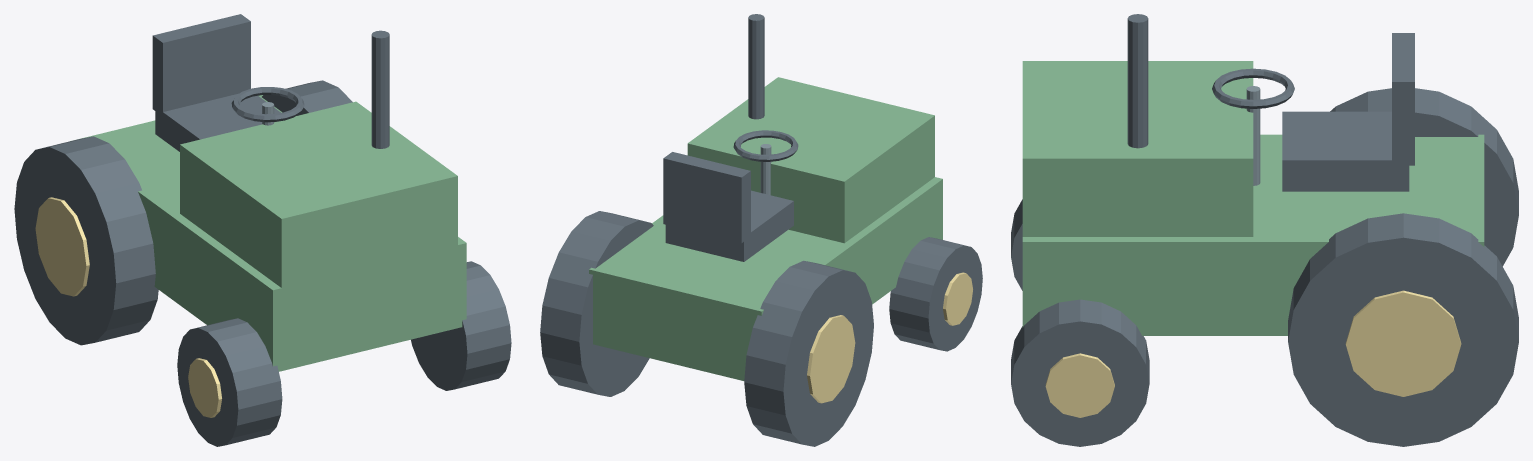
File: tractor.glb
The picture shows the model from 3 angles, left to right: view 1: azimuth 30°, elevation 25°; view 2: azimuth 150°, elevation 25°; view 3: azimuth 270°, elevation 25°; orthographic projection. The views are drawn at different scales.
Visible parts, largest first — view 1: tractor_001, tractor_000, tractor_004, tractor_002, tractor_011, tractor_006, tractor_005, tractor_010, tractor_012, tractor_008, tractor_003, tractor_014; view 2: tractor_000, tractor_001, tractor_004, tractor_008, tractor_002, tractor_011, tractor_010, tractor_005, tractor_012, tractor_003, tractor_014, tractor_013; view 3: tractor_000, tractor_001, tractor_008, tractor_006, tractor_010, tractor_009, tractor_004, tractor_007, tractor_011, tractor_012, tractor_014, tractor_002 (+1 smaller).
Part boxes in pixels (x1,y1,x2,y2): tractor_001: (180,101,457,310); tractor_000: (70,95,466,371); tractor_004: (14,136,158,345); tractor_002: (177,318,282,446); tractor_011: (152,14,250,111); tractor_006: (411,261,511,390); tractor_005: (35,197,89,296); tractor_010: (155,93,280,151); tractor_012: (371,30,389,148); tractor_008: (262,80,352,115); tractor_003: (188,358,221,417); tractor_014: (231,87,304,122); tractor_000: (589,177,942,380); tractor_001: (687,77,934,243); tractor_004: (744,260,873,446); tractor_008: (540,211,653,396); tractor_002: (889,237,982,351); tractor_011: (663,152,750,243); tractor_010: (665,190,793,261); tractor_005: (807,315,855,403); tractor_012: (748,14,764,119); tractor_003: (943,272,972,325); tractor_014: (733,130,798,161); tractor_013: (760,144,771,195); tractor_000: (1022,134,1484,335); tractor_001: (1022,61,1253,236); tractor_008: (1288,213,1518,446); tractor_006: (1011,299,1149,446); tractor_010: (1282,111,1409,191); tractor_009: (1345,290,1461,396); tractor_004: (1330,88,1518,266); tractor_007: (1045,353,1114,417); tractor_011: (1392,33,1414,165); tractor_012: (1127,14,1148,148); tractor_014: (1212,68,1294,108); tractor_002: (1011,199,1022,290).
Size of the model in its own units: 1.6 by 1.85 by 2.2.
